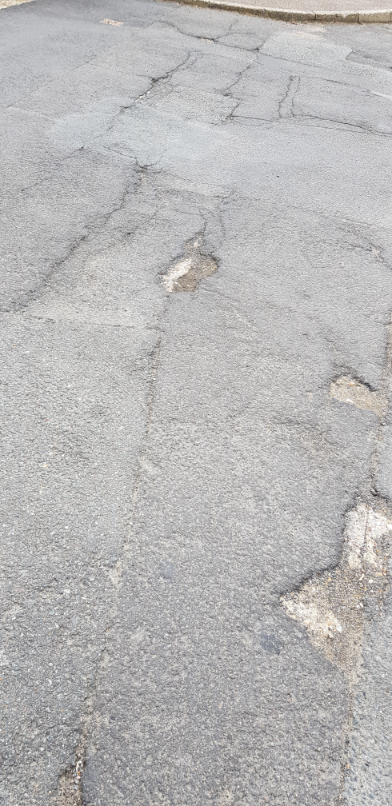pothole: (270, 480, 391, 674), (155, 229, 222, 305), (326, 361, 381, 409)
